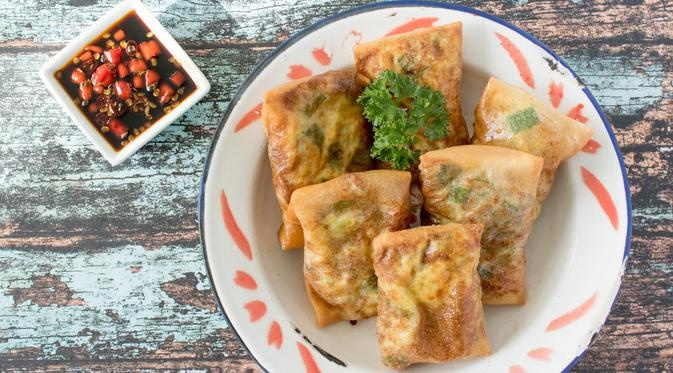martabak: (261, 22, 594, 368)
